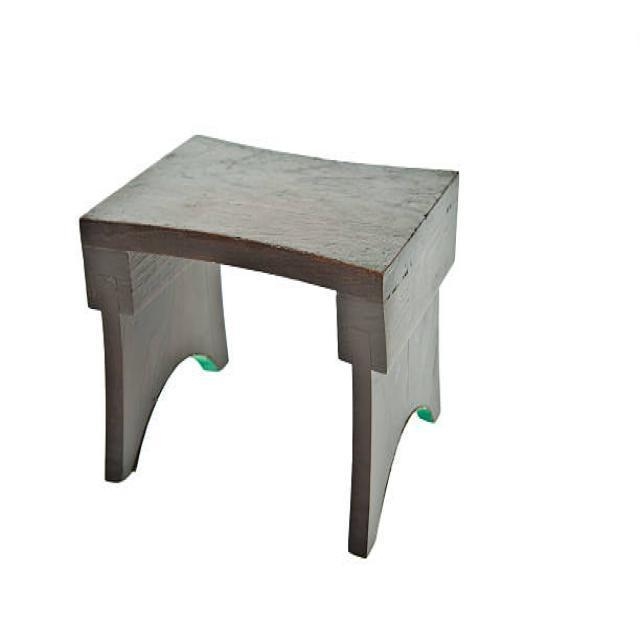table: (77, 132, 459, 558)
